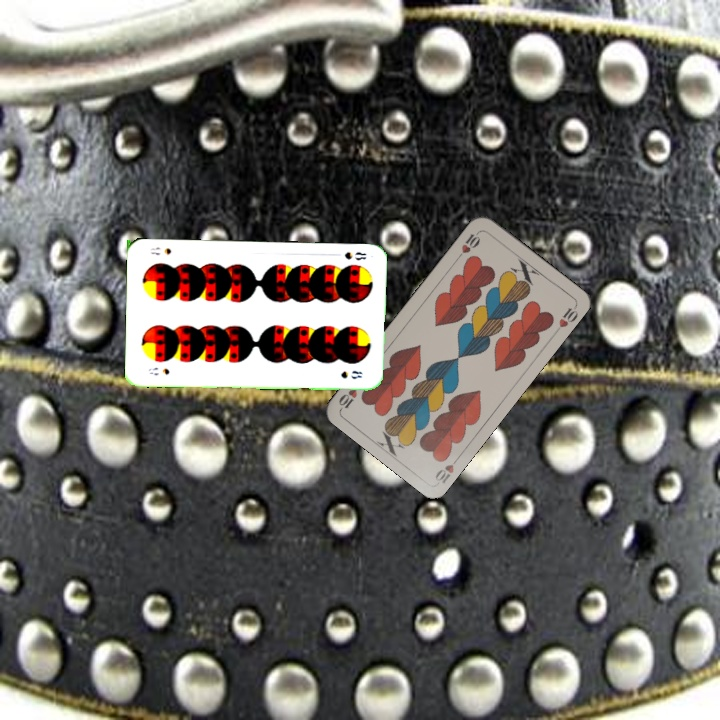H10: (431, 452, 463, 486), (453, 227, 483, 262)
S8: (341, 248, 369, 263), (145, 363, 172, 378)
